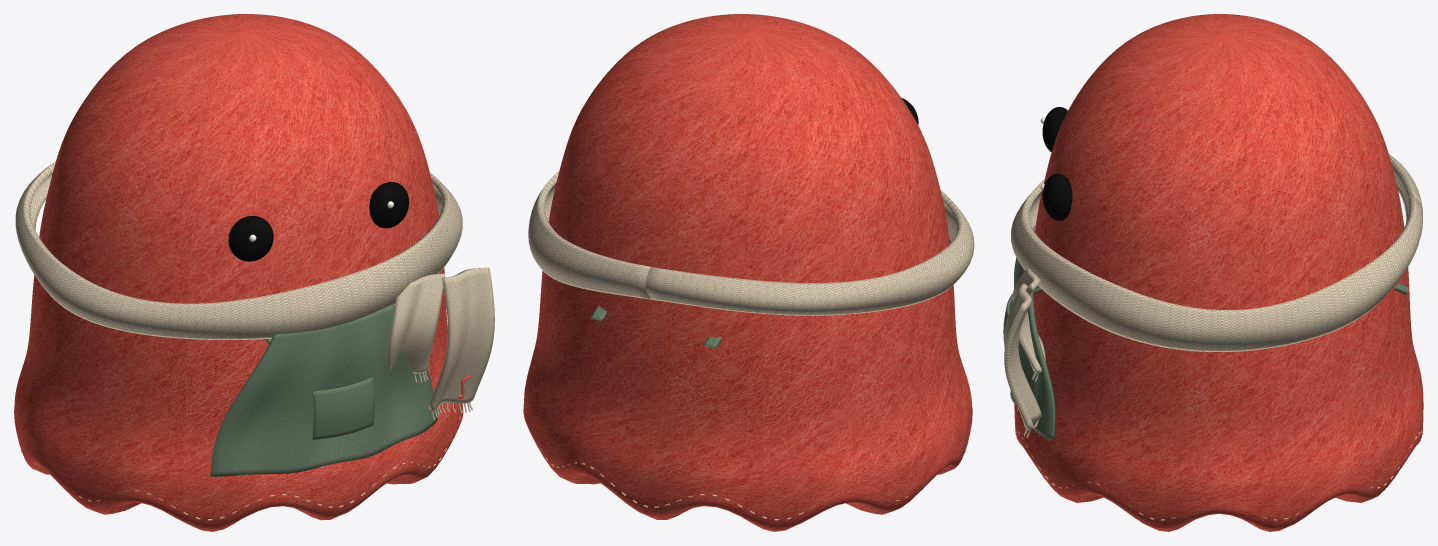
The model's file is mongle-v3.glb.
3 renders of one model, left to right at view 1: azimuth 30°, elevation 25°; view 2: azimuth 150°, elevation 25°; view 3: azimuth 270°, elevation 25°, orthographic.
Visible parts, largest first — view 1: base-surface-0, body-surface-7, neck-surface-4, neck-surface-5, base-surface-1; view 2: base-surface-0, neck-surface-4; view 3: base-surface-0, neck-surface-4, neck-surface-5, body-surface-7, base-surface-1.
Part boxes in pixels (x1=…): base-surface-0: x1=14, y1=14, x2=463, y2=531; body-surface-7: x1=210, y1=304, x2=437, y2=476; neck-surface-4: x1=15, y1=161, x2=462, y2=339; neck-surface-5: x1=386, y1=267, x2=494, y2=419; base-surface-1: x1=228, y1=182, x2=409, y2=261; base-surface-0: x1=523, y1=14, x2=972, y2=531; neck-surface-4: x1=528, y1=171, x2=974, y2=315; base-surface-0: x1=1014, y1=14, x2=1423, y2=531; neck-surface-4: x1=1011, y1=154, x2=1422, y2=351; neck-surface-5: x1=1004, y1=268, x2=1045, y2=437; body-surface-7: x1=1003, y1=230, x2=1408, y2=440; base-surface-1: x1=1042, y1=107, x2=1072, y2=220.
Bounding box in the file's own units: 1.8 × 1.83 × 1.65.
8 materials, 4 textured.
